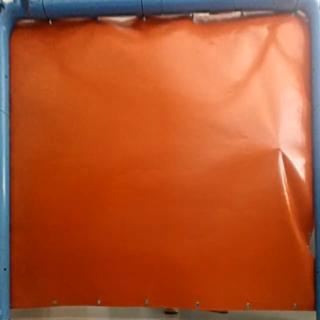Hit-hRxx: (268, 142, 288, 158)
